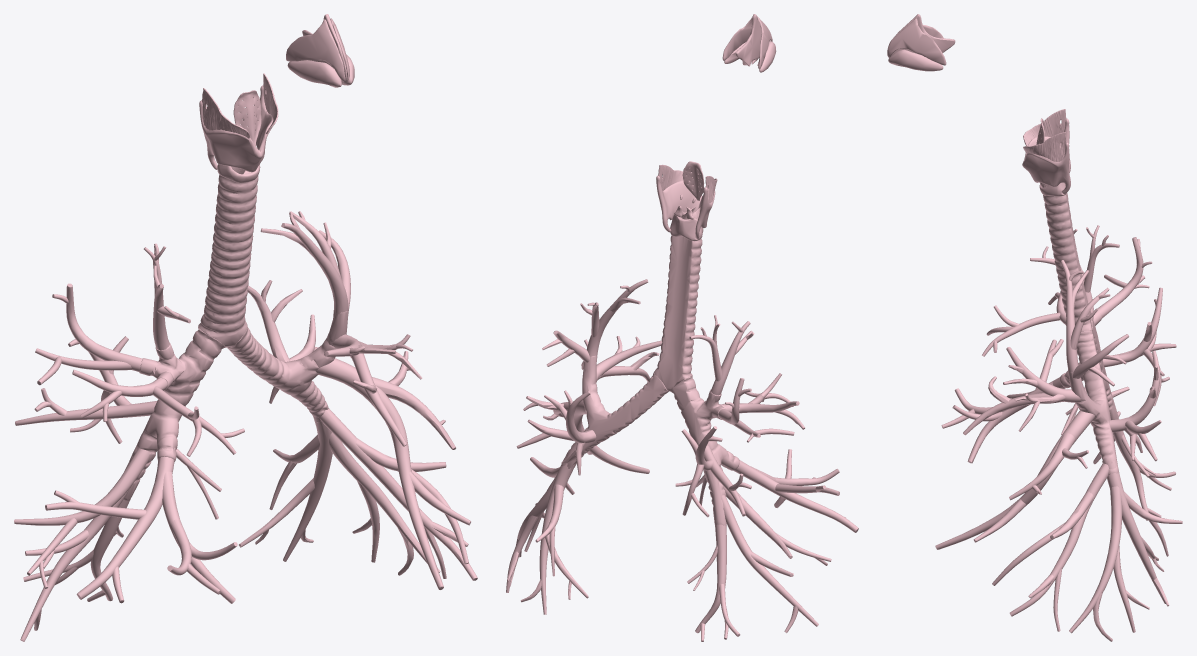
File: respiratory.glb
3 views of the same model, side by side, from view 1: azimuth 30°, elevation 25°; view 2: azimuth 150°, elevation 25°; view 3: azimuth 270°, elevation 25° (orthographic). The views are drawn at different scales.
Parts seen in each view (by area): view 1: FMA7394_Trachea, FMA68418_Right_main_bronchus_proper, FMA7396_Left_main_bronchus, FMA68227_Inferior_lingular_bronchial_tree, FMA68215_Lateral_segmental_bronchial_tree, FMA68233_Left_posterior_basal_segmental_bronchial_tree, FMA68232_Left_lateral_basal_segmental_bronchial_tree, FMA68216_Right_superior_segmental_bronchial_tree, FMA68212_Right_anterior_segmental_bronchial_tree, FMA55099_Thyroid_cartilage, FMA68214_Medial_segmental_bronchial_tree, FMA68213_Right_posterior_segmental_bronchial_tree (+14 smaller); view 2: FMA7394_Trachea, FMA7396_Left_main_bronchus, FMA68418_Right_main_bronchus_proper, FMA68233_Left_posterior_basal_segmental_bronchial_tree, FMA68216_Right_superior_segmental_bronchial_tree, FMA68215_Lateral_segmental_bronchial_tree, FMA68220_Right_lateral_basal_segmental_bronchial_tree, FMA68228_Left_superior_segmental_bronchial_tree, FMA68221_Right_posterior_basal_segmental_bronchial_tree, FMA55099_Thyroid_cartilage, FMA68222_Left_anterior_segmental_bronchial_tree, FMA68211_Right_apical_segmental_bronchial_tree (+11 smaller); view 3: FMA7396_Left_main_bronchus, FMA7394_Trachea, FMA68232_Left_lateral_basal_segmental_bronchial_tree, FMA68222_Left_anterior_segmental_bronchial_tree, FMA68233_Left_posterior_basal_segmental_bronchial_tree, FMA68227_Inferior_lingular_bronchial_tree, FMA68223_Left_apical_segmental_bronchial_tree, FMA68228_Left_superior_segmental_bronchial_tree, FMA55099_Thyroid_cartilage, FMA68230_Left_medial_basal_segmental_bronchial_tree, FMA68231_Left_anterior_basal_segmental_bronchial_tree, FMA68216_Right_superior_segmental_bronchial_tree (+14 smaller).
Boxes of the visible parts, x1=… form: FMA7394_Trachea: x1=198, y1=170, x2=258, y2=347; FMA68418_Right_main_bronchus_proper: x1=124, y1=327, x2=225, y2=500; FMA7396_Left_main_bronchus: x1=227, y1=309, x2=348, y2=422; FMA68227_Inferior_lingular_bronchial_tree: x1=314, y1=358, x2=470, y2=589; FMA68215_Lateral_segmental_bronchial_tree: x1=45, y1=447, x2=175, y2=603; FMA68233_Left_posterior_basal_segmental_bronchial_tree: x1=239, y1=412, x2=332, y2=561; FMA68232_Left_lateral_basal_segmental_bronchial_tree: x1=329, y1=432, x2=440, y2=575; FMA68216_Right_superior_segmental_bronchial_tree: x1=15, y1=336, x2=157, y2=443; FMA68212_Right_anterior_segmental_bronchial_tree: x1=72, y1=369, x2=244, y2=456; FMA55099_Thyroid_cartilage: x1=199, y1=85, x2=273, y2=172; FMA68214_Medial_segmental_bronchial_tree: x1=162, y1=471, x2=237, y2=603; FMA68213_Right_posterior_segmental_bronchial_tree: x1=35, y1=283, x2=157, y2=385; FMA7394_Trachea: x1=654, y1=235, x2=702, y2=391; FMA7396_Left_main_bronchus: x1=561, y1=355, x2=668, y2=469; FMA68418_Right_main_bronchus_proper: x1=671, y1=375, x2=739, y2=525; FMA68233_Left_posterior_basal_segmental_bronchial_tree: x1=520, y1=454, x2=588, y2=614; FMA68216_Right_superior_segmental_bronchial_tree: x1=675, y1=426, x2=751, y2=517; FMA68215_Lateral_segmental_bronchial_tree: x1=734, y1=457, x2=858, y2=532; FMA68220_Right_lateral_basal_segmental_bronchial_tree: x1=721, y1=495, x2=818, y2=632; FMA68228_Left_superior_segmental_bronchial_tree: x1=516, y1=390, x2=596, y2=475; FMA68221_Right_posterior_basal_segmental_bronchial_tree: x1=687, y1=524, x2=740, y2=641; FMA55099_Thyroid_cartilage: x1=656, y1=175, x2=715, y2=238; FMA68222_Left_anterior_segmental_bronchial_tree: x1=581, y1=336, x2=662, y2=382; FMA68211_Right_apical_segmental_bronchial_tree: x1=689, y1=315, x2=754, y2=395; FMA7396_Left_main_bronchus: x1=1068, y1=330, x2=1118, y2=474; FMA7394_Trachea: x1=1043, y1=192, x2=1092, y2=333; FMA68232_Left_lateral_basal_segmental_bronchial_tree: x1=1069, y1=486, x2=1149, y2=641; FMA68222_Left_anterior_segmental_bronchial_tree: x1=963, y1=347, x2=1081, y2=435; FMA68233_Left_posterior_basal_segmental_bronchial_tree: x1=1107, y1=461, x2=1182, y2=606; FMA68227_Inferior_lingular_bronchial_tree: x1=935, y1=410, x2=1094, y2=549; FMA68223_Left_apical_segmental_bronchial_tree: x1=1061, y1=260, x2=1110, y2=401; FMA68228_Left_superior_segmental_bronchial_tree: x1=1109, y1=351, x2=1161, y2=461; FMA55099_Thyroid_cartilage: x1=1022, y1=118, x2=1070, y2=193; FMA68230_Left_medial_basal_segmental_bronchial_tree: x1=1009, y1=462, x2=1108, y2=616; FMA68231_Left_anterior_basal_segmental_bronchial_tree: x1=992, y1=491, x2=1093, y2=631; FMA68216_Right_superior_segmental_bronchial_tree: x1=1103, y1=287, x2=1176, y2=405.
Bounding box in the file's own units: 0.2394 × 0.388 × 0.1881.
